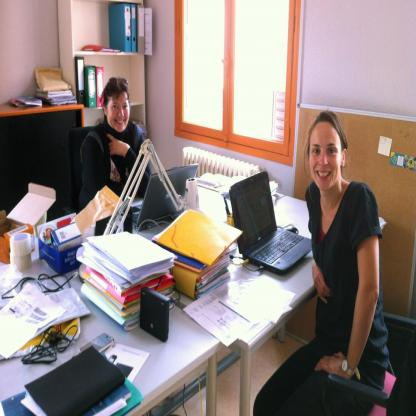board: (232, 162, 305, 283), (132, 165, 198, 233)
